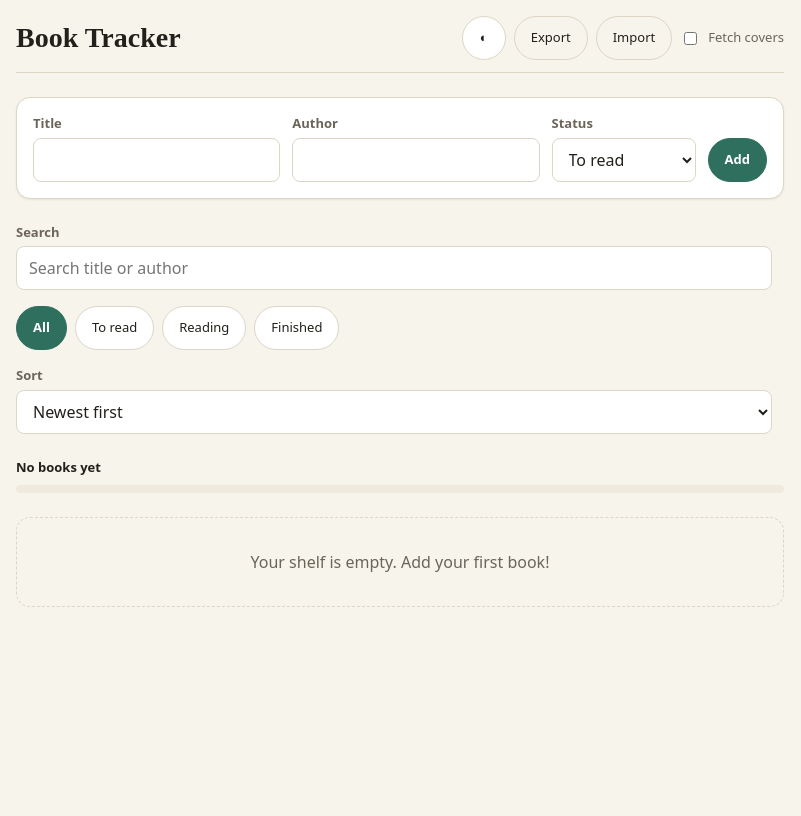
it: AddBookForm › adds a valid book at the top as "To read" and refocuses the title input
The image size is (801, 816).
Type "Aadujeevitham" into the field labelled "Title" at (157, 160), box x1=33 y1=138 x2=280 y2=182
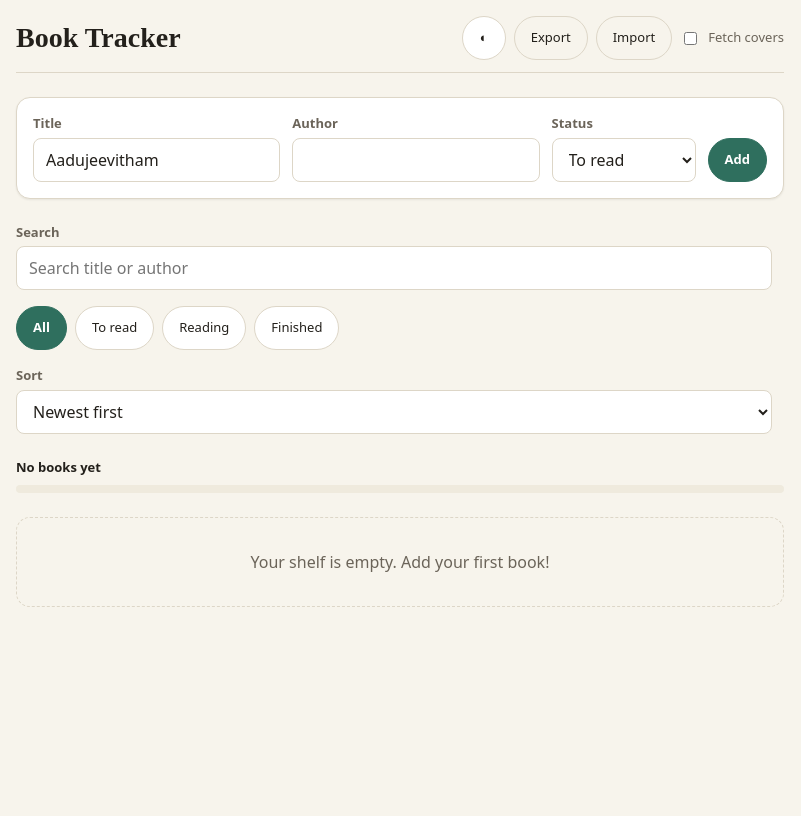
Type "Benyamin" into the field labelled "Author" at (416, 160), box x1=292 y1=138 x2=540 y2=182
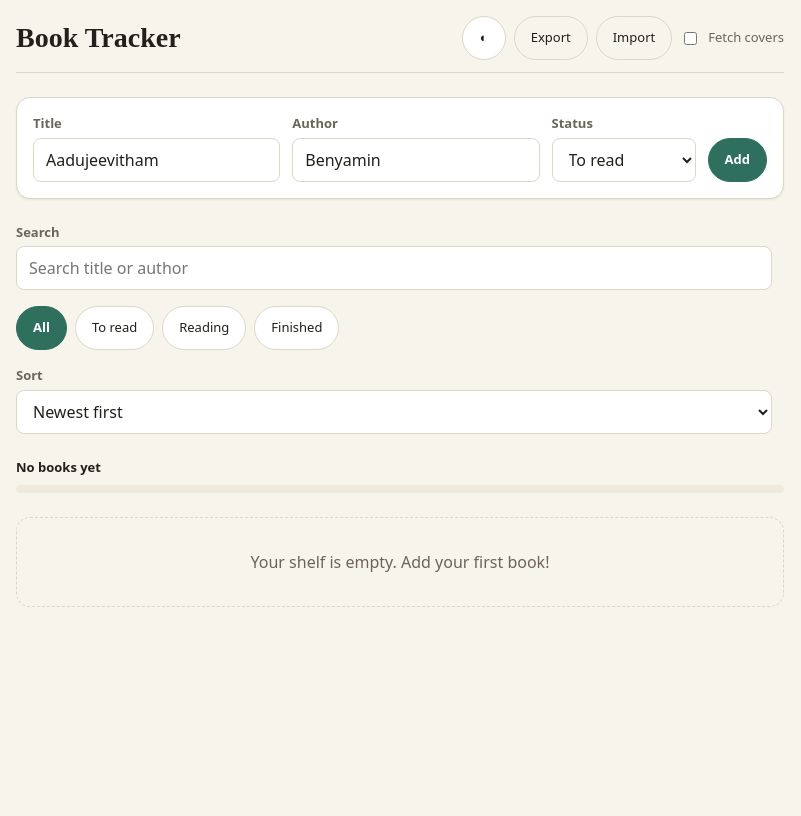
Click the button "Add" at (737, 160), box x1=708 y1=138 x2=767 y2=182
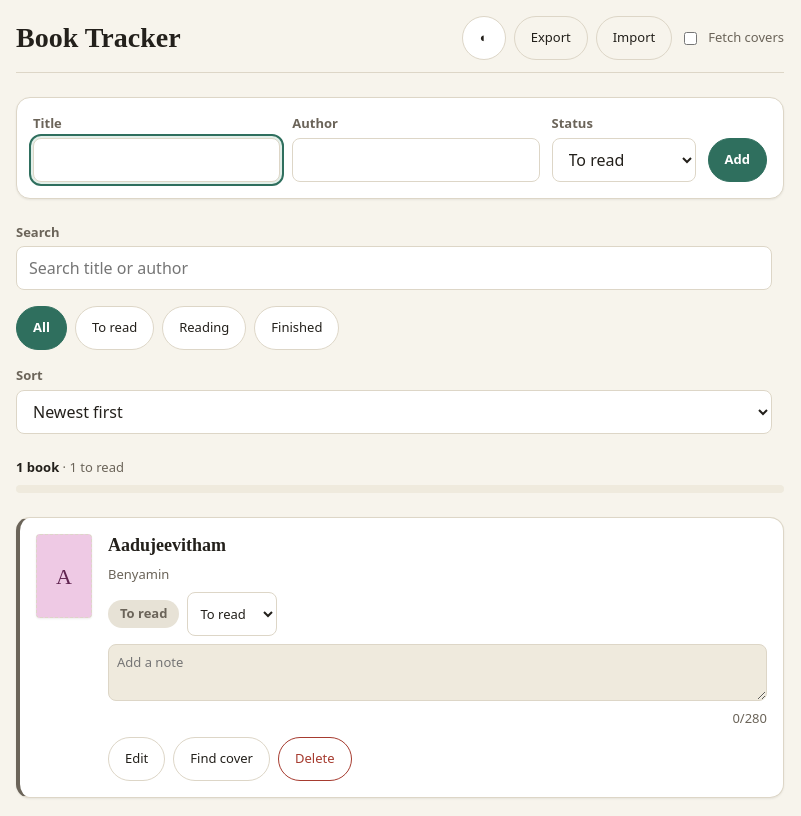
Now the number of list items is 1, box x1=16 y1=517 x2=784 y2=798
Now the heading "Aadujeevitham" is shown, box x1=108 y1=535 x2=226 y2=555
Now the text "Benyamin" is shown, box x1=108 y1=564 x2=169 y2=582
